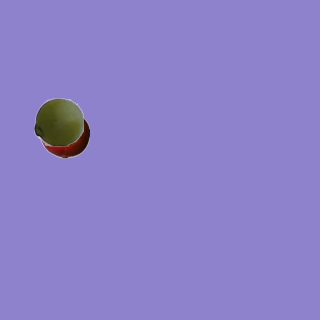Apple Braeburn: (39, 108, 89, 158)
Grape White 4: (33, 96, 83, 146)
